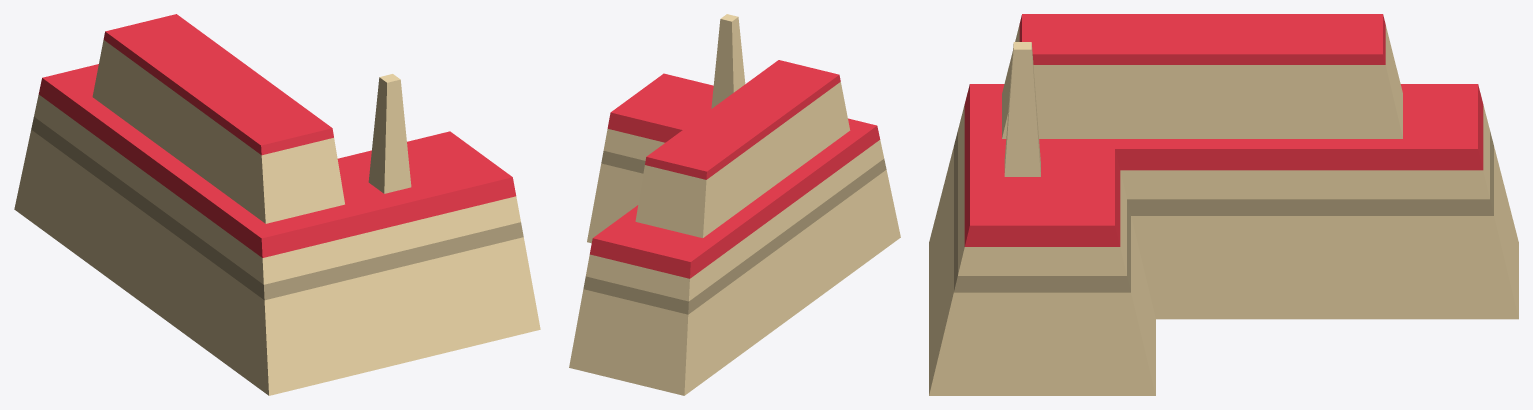
The model's file is House_7.fbx.
3 views of the same model, side by side, from view 1: azimuth 30°, elevation 25°; view 2: azimuth 150°, elevation 25°; view 3: azimuth 270°, elevation 25° (orthographic). The views are drawn at different scales.
Parts seen in each view (by area): view 1: House_7; view 2: House_7; view 3: House_7.
Part boxes in pixels (<box>): House_7: <box>14,14,540,395</box>; House_7: <box>569,14,900,395</box>; House_7: <box>929,14,1518,395</box>.
Bounding box in the file's own units: 200 × 175 × 325.
